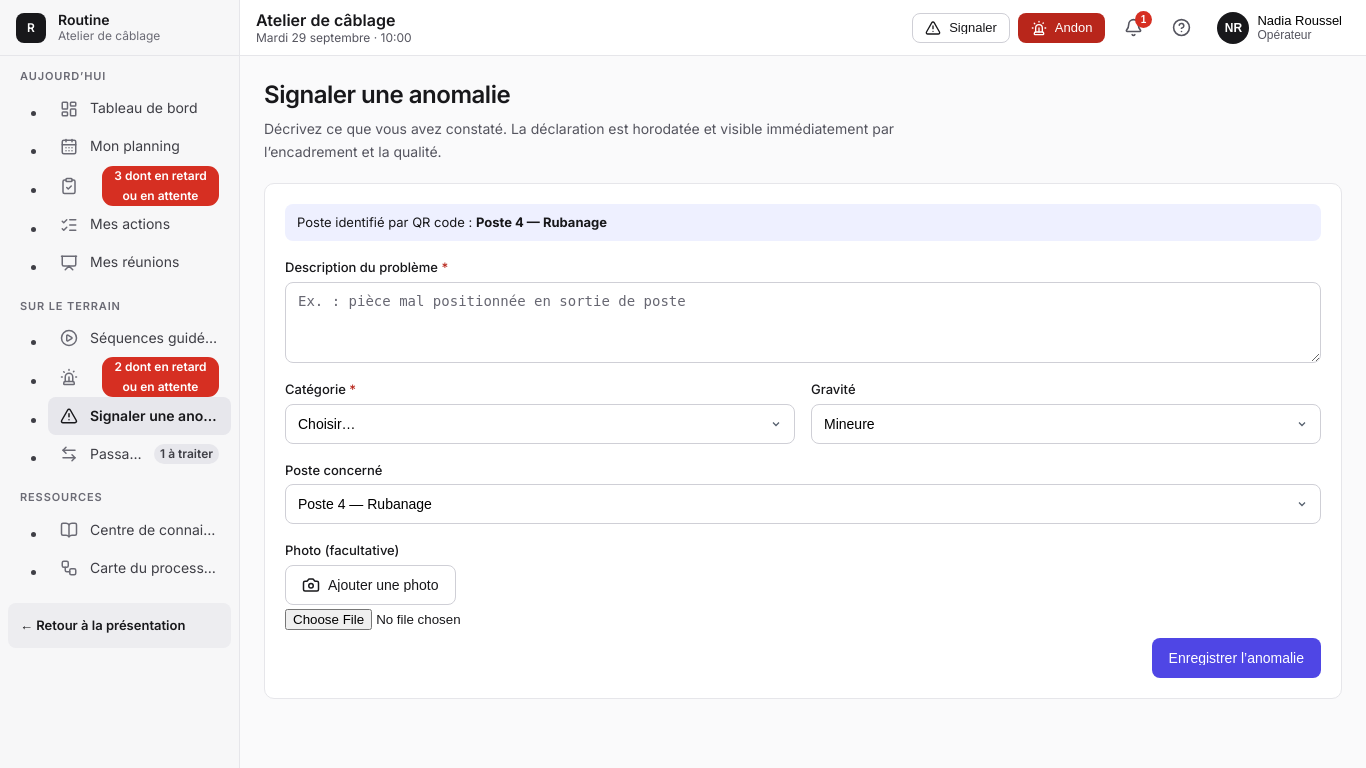
Scenario: anomalies › déclaration depuis un QR code : poste pré-rempli, validation, enregistrement
The width and height of the screenshot is (1366, 768).
Expected: the text "Poste identifié par QR code : Poste 4 — Rubanage" is shown, [285,204,1321,241]
Click the button "Enregistrer l’anomalie" at (1236, 658), box [1152,638,1321,678]
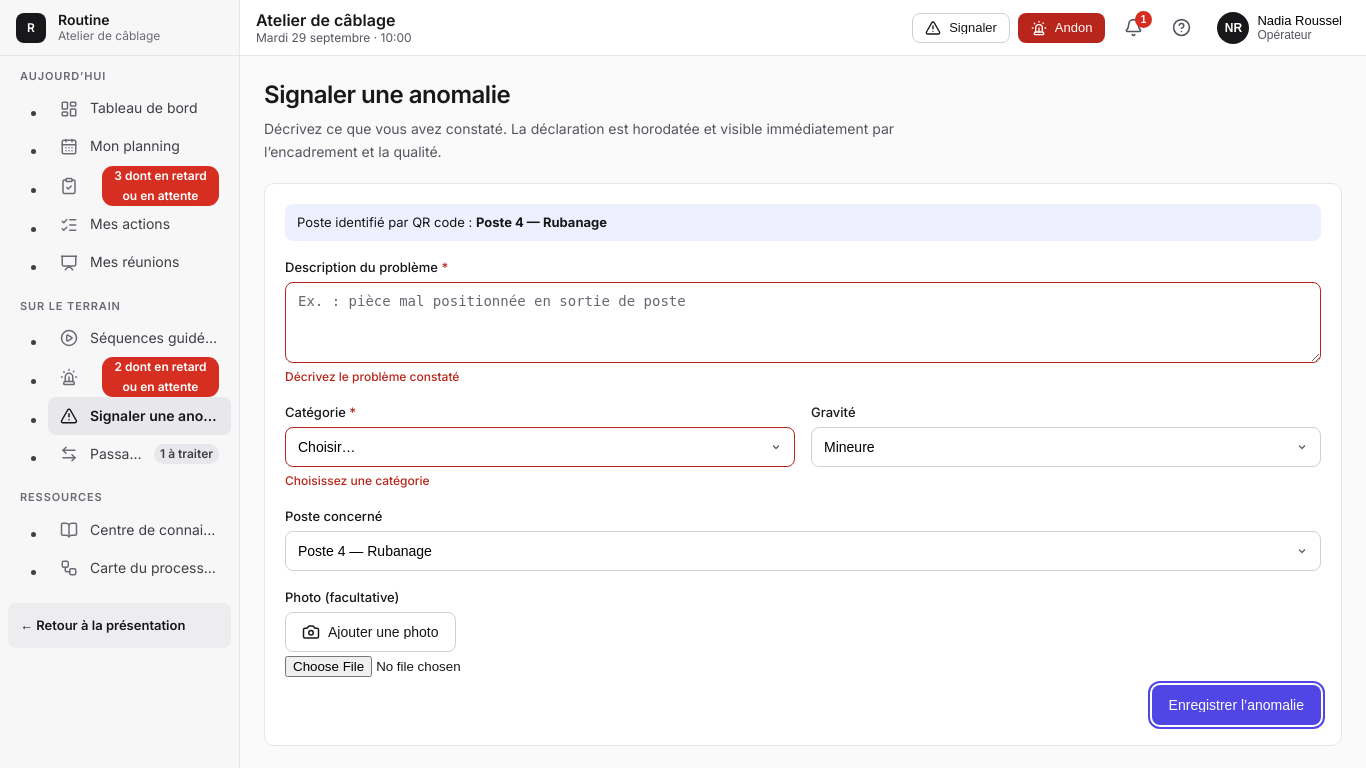
Expected: the text "Décrivez le problème constaté" is shown, [285,369,459,384]
Type "Ruban mal enroulé sur trois faisceaux" into the text box labelled "Description du problème *" at (803, 322), box [285,282,1321,363]
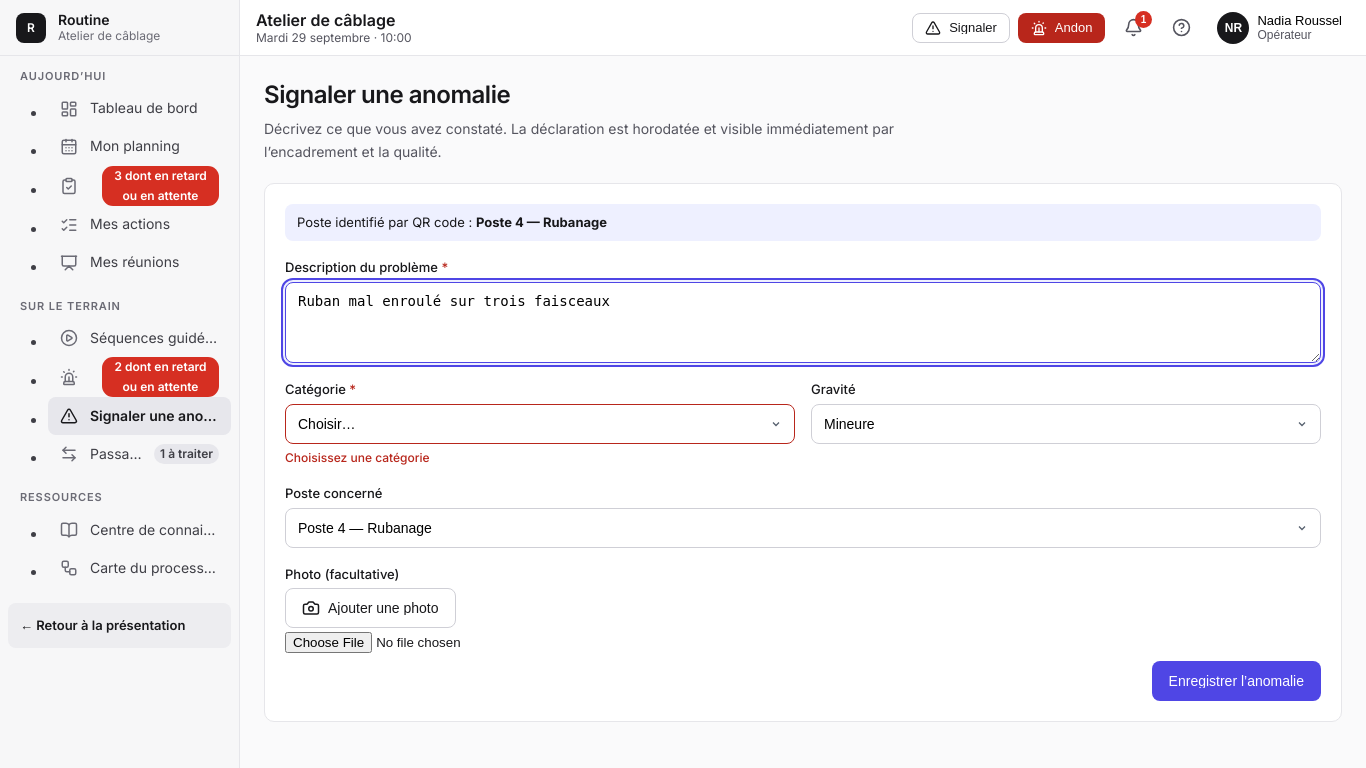
Select "Qualité" in the dropdown labelled "Catégorie *" at (540, 424), box [285,404,795,444]
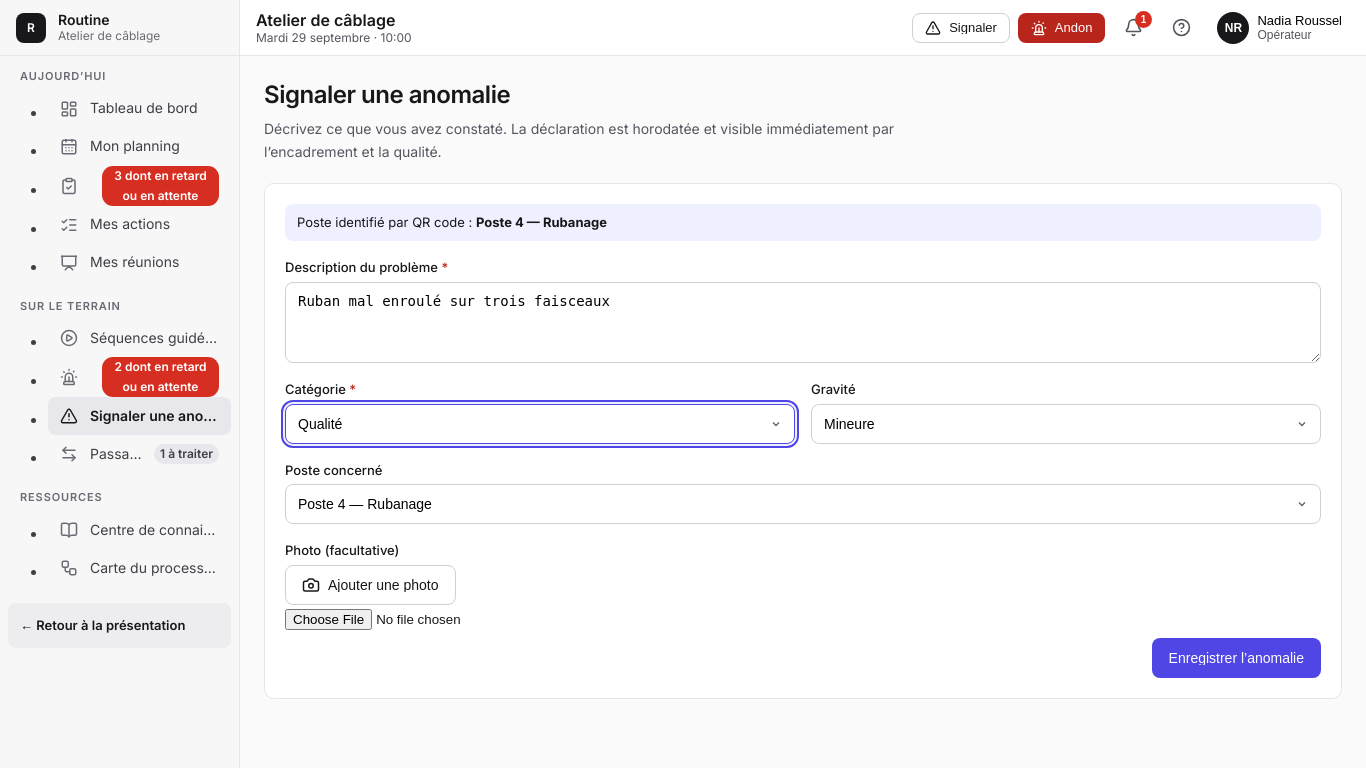
Click the button "Enregistrer l’anomalie" at (1236, 658), box [1152,638,1321,678]
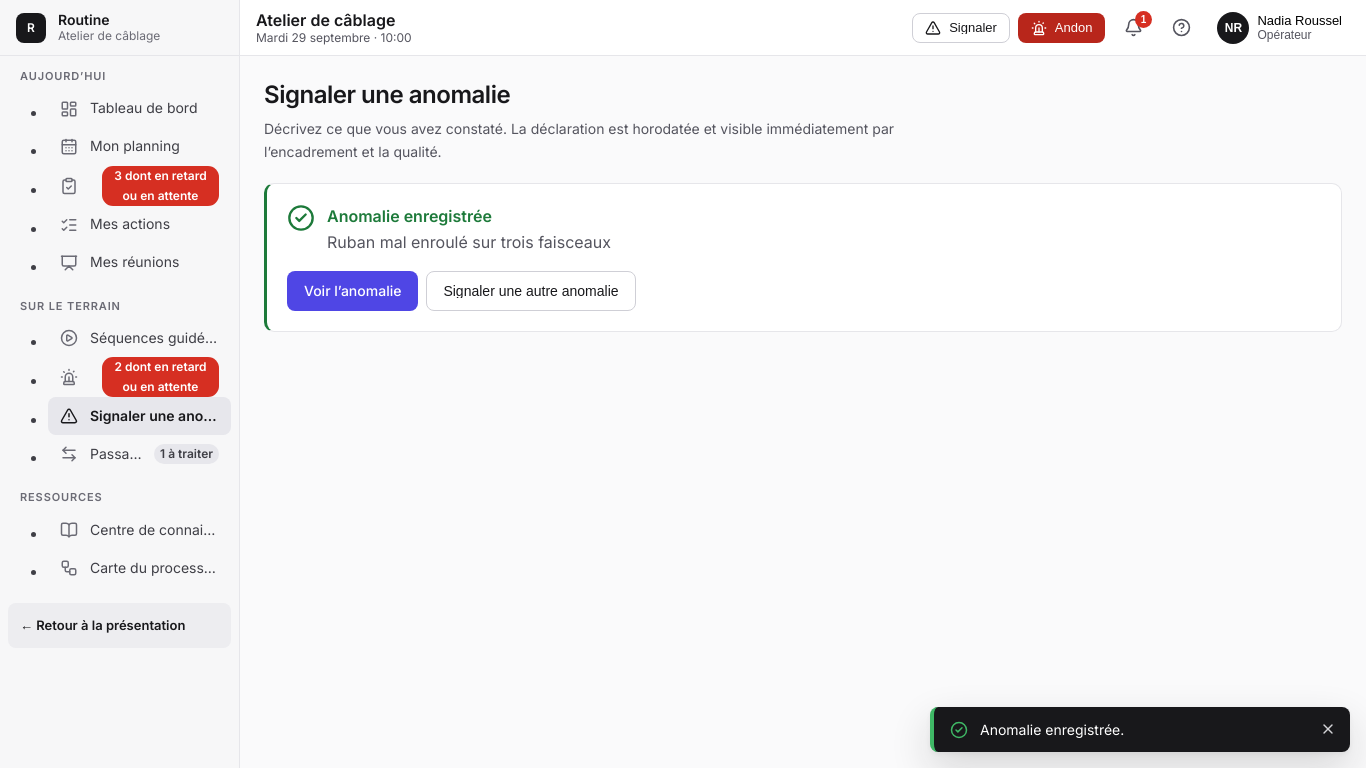
Expected: the text "Anomalie enregistrée" is shown, [327,206,492,226]
